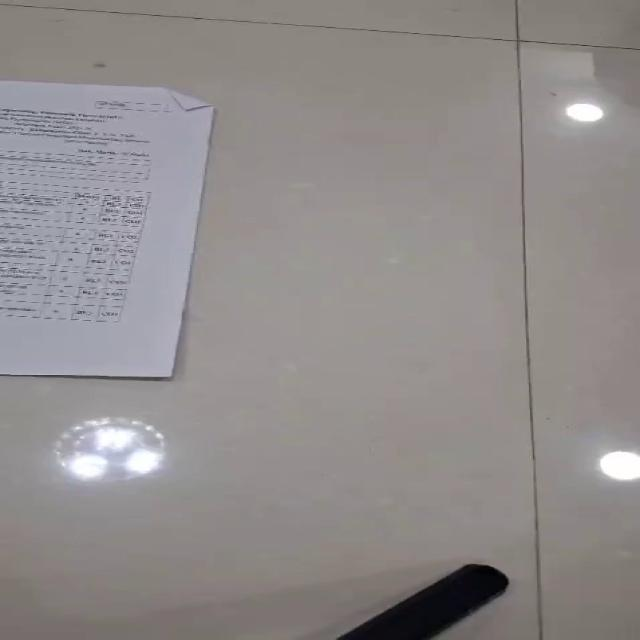paper: (0, 79, 216, 378)
